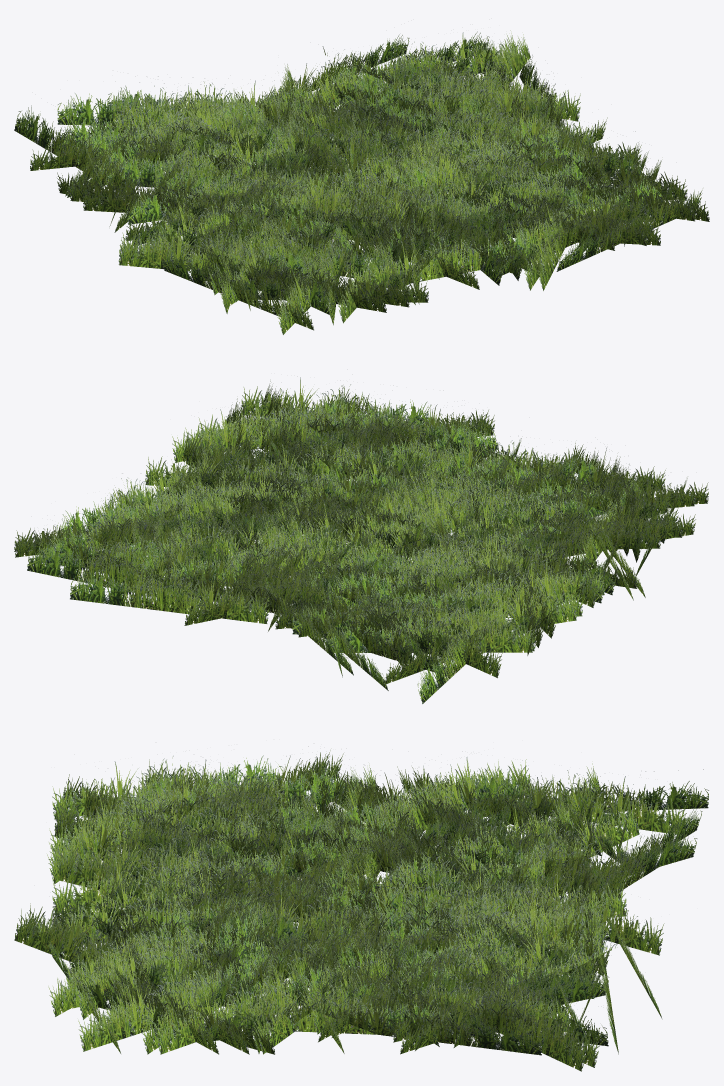
The model's file is grass.glb.
3 views of the same model, one above another, from view 1: azimuth 30°, elevation 25°; view 2: azimuth 150°, elevation 25°; view 3: azimuth 270°, elevation 25° (orthographic). The views are drawn at different scales.
Visible parts, largest first — view 1: Object_11; view 2: Object_11; view 3: Object_11.
Part boxes in pixels (bbox=[...]): Object_11: bbox=[14, 30, 709, 334]; Object_11: bbox=[14, 376, 708, 704]; Object_11: bbox=[14, 746, 708, 1071].
Bounding box in the file's own units: 3.98 × 0.2832 × 3.94.
1 material, 1 textured.
